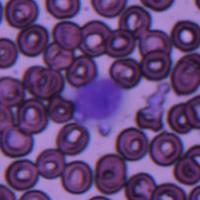L: (74, 76, 125, 121)
